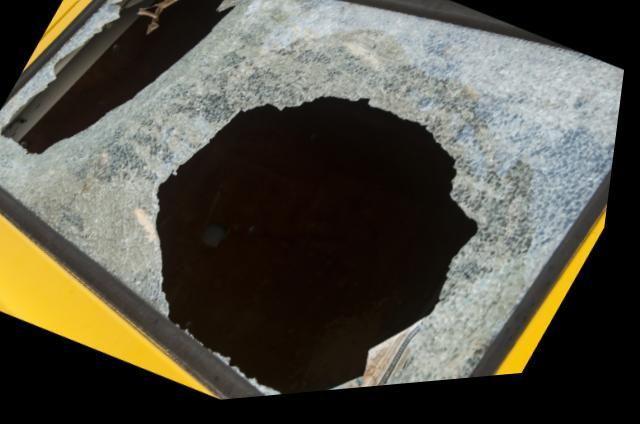glass shatter: (0, 0, 627, 402)
